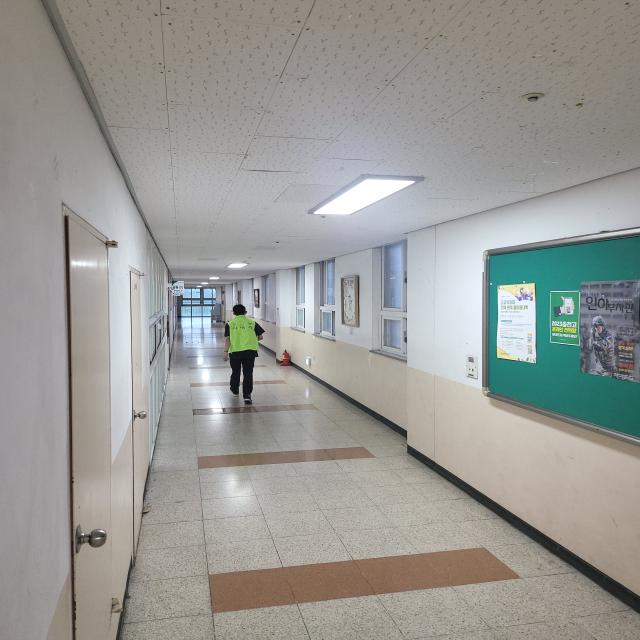weston_spy: (221, 308, 267, 362)
